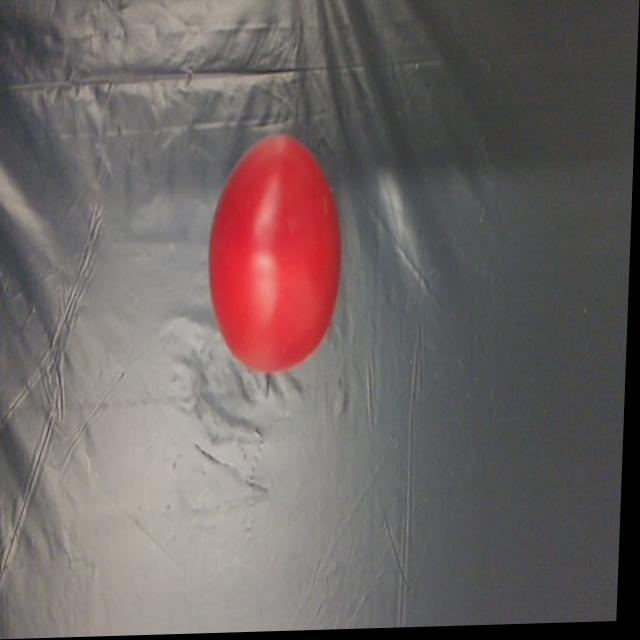kirmizi: (206, 125, 362, 378)
